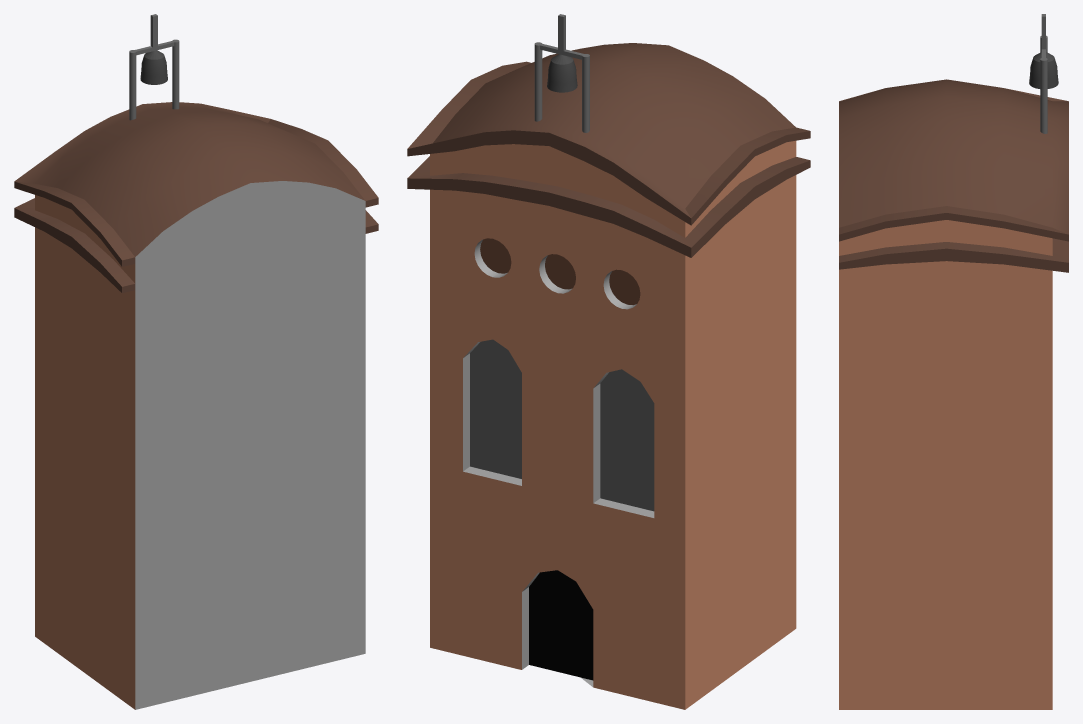
Rendered from vapor1.fbx.
The picture shows the model from 3 angles, left to right: view 1: azimuth 30°, elevation 25°; view 2: azimuth 150°, elevation 25°; view 3: azimuth 270°, elevation 25°; orthographic projection. The views are drawn at different scales.
Parts seen in each view (by area): view 1: polySurface5; view 2: polySurface5; view 3: polySurface5.
Boxes of the visible parts, x1,y1,x2,y2 form: polySurface5: (14,14,378,709); polySurface5: (407,14,810,709); polySurface5: (839,14,1068,709).
Size of the model in its own units: 29.29 by 65.01 by 21.33.
